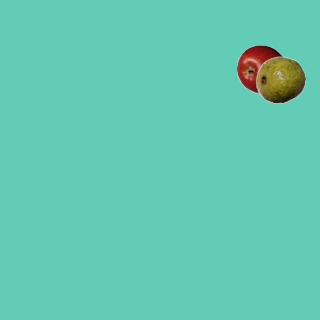Apple Braeburn: (236, 44, 286, 94)
Guava: (255, 54, 305, 104)
